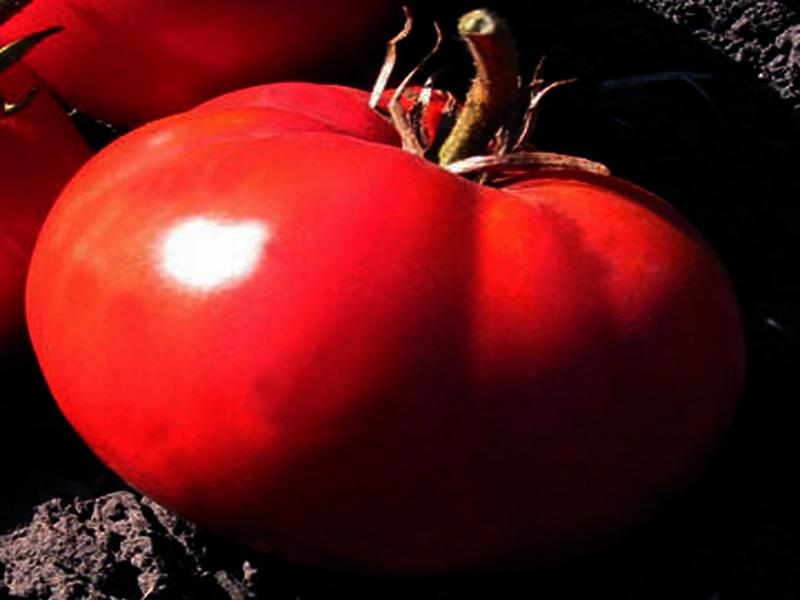Tomato: (24, 85, 747, 577)
